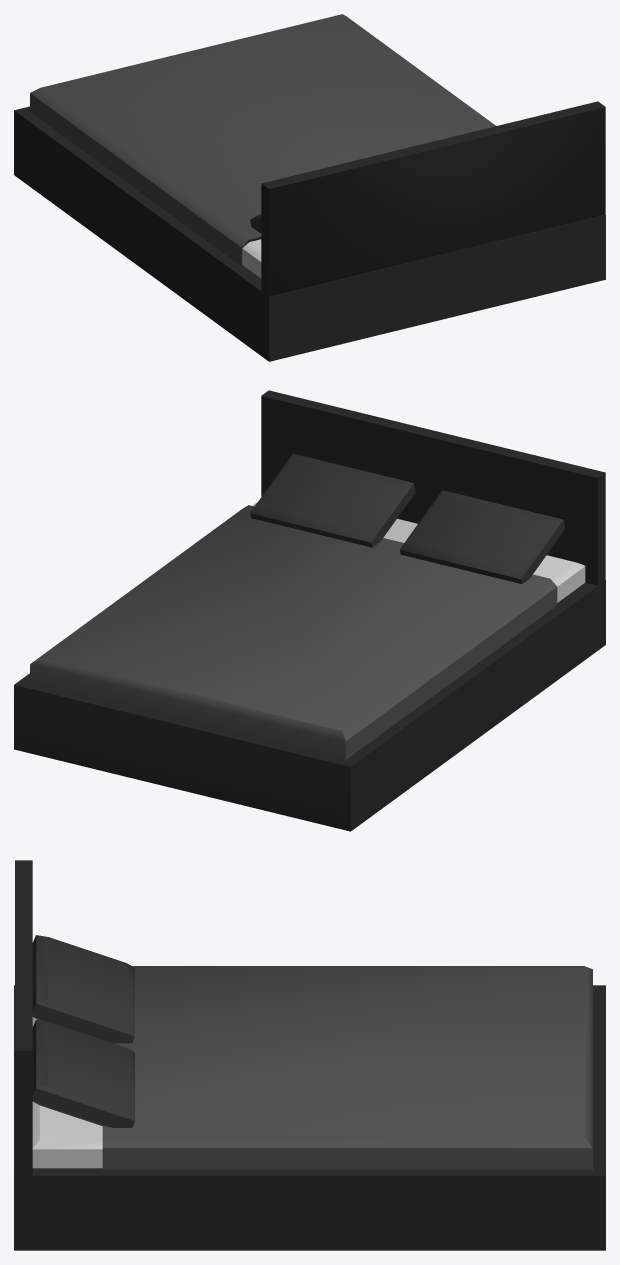
Rendered from Cama.fbx.
3 views of the same model, one above another, from view 1: azimuth 30°, elevation 25°; view 2: azimuth 150°, elevation 25°; view 3: azimuth 270°, elevation 25° (orthographic). The views are drawn at different scales.
Parts seen in each view (by area): view 1: Bed; view 2: Bed; view 3: Bed.
Boxes of the visible parts, bbox=[...] form: Bed: bbox=[14, 14, 605, 361]; Bed: bbox=[14, 390, 605, 831]; Bed: bbox=[14, 860, 605, 1250].
Bounding box in the file's own units: 163 × 80 × 214.
Materials: 1 (1 with a texture image).
